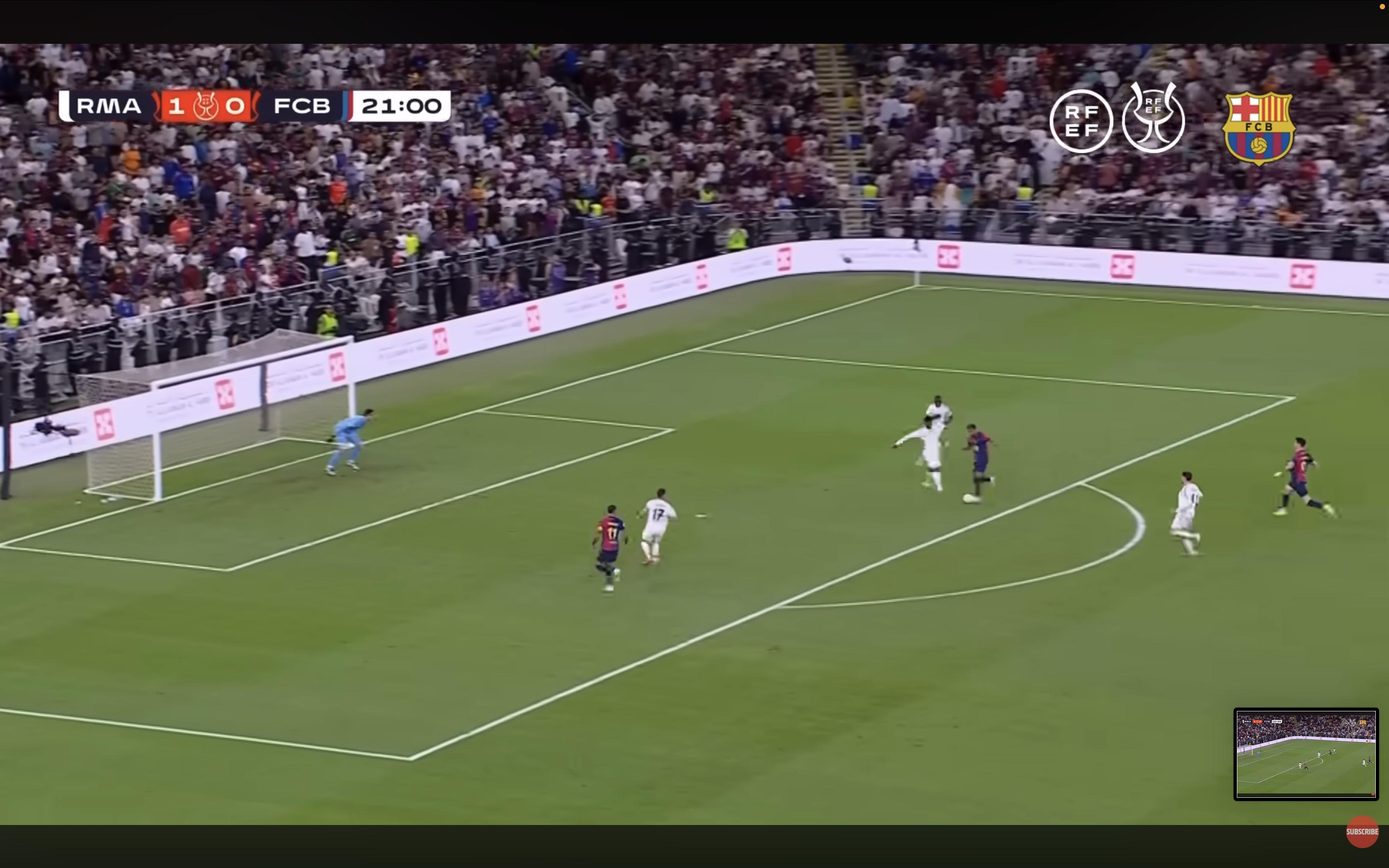ball: (962, 493, 980, 503)
goalkeeper: (326, 409, 373, 475)
player: (1274, 437, 1336, 517), (893, 417, 943, 491), (592, 505, 628, 591), (640, 488, 677, 565), (1170, 472, 1203, 555), (963, 424, 995, 503), (925, 396, 952, 448)
